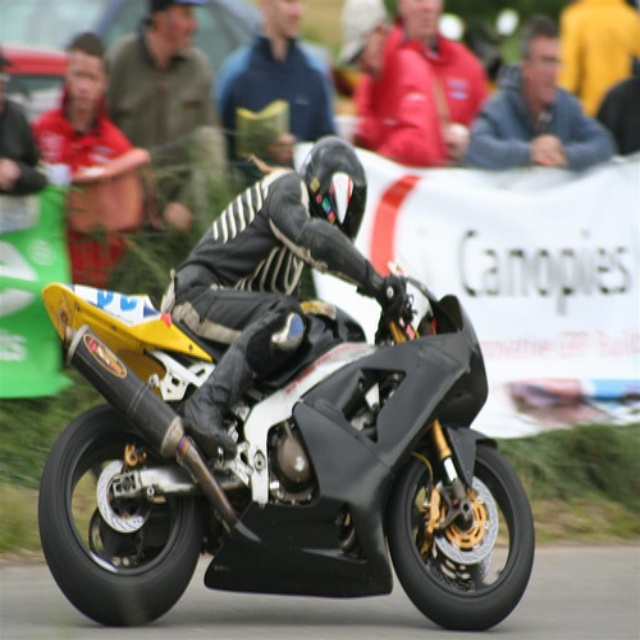Motorcycle: (37, 263, 535, 630)
